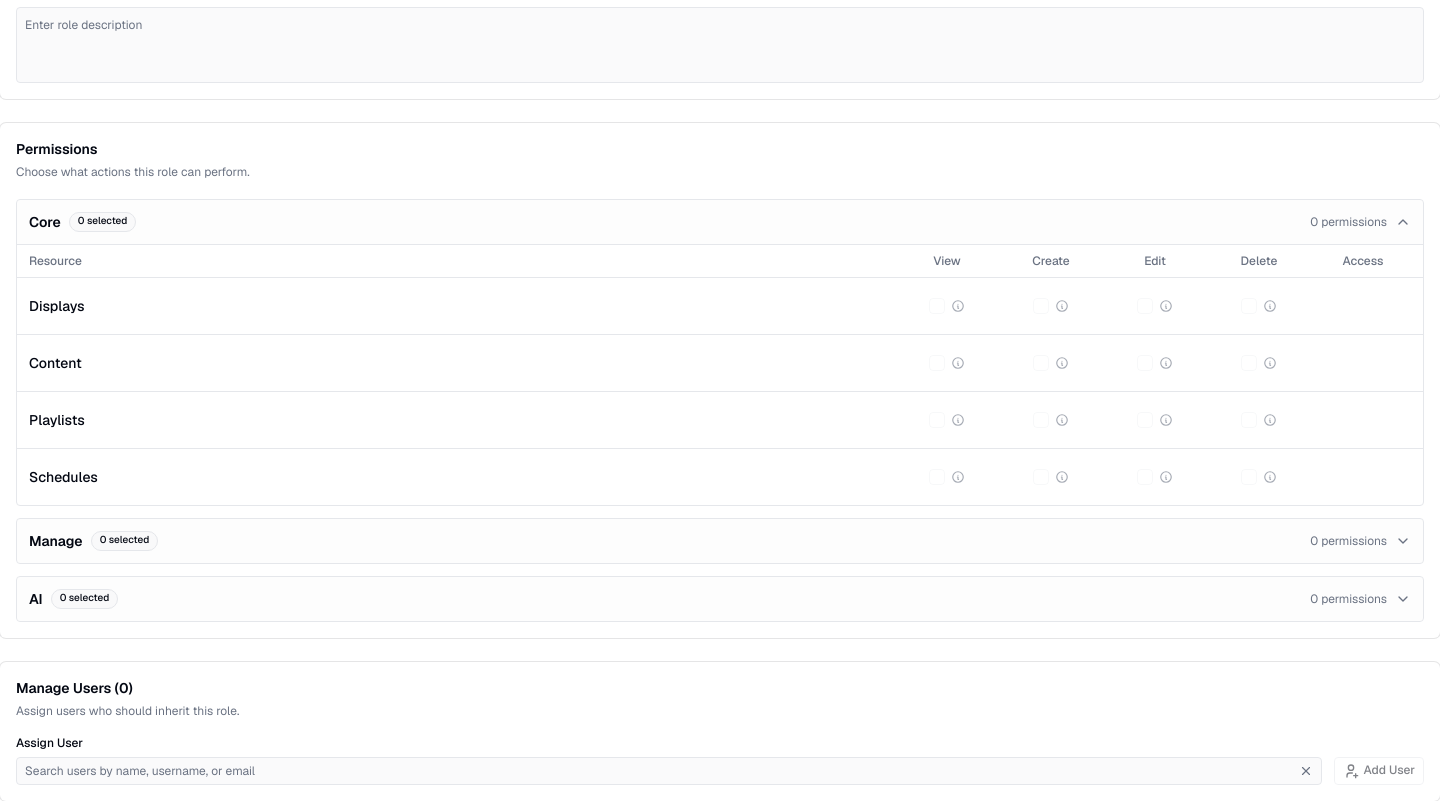
RoleForm › clears the selected user when the assignment combobox is edited after selection
(page scrolled)
Type "bob" into the dropdown labelled "Assign User" at (655, 771), box [17,757,1294,785]
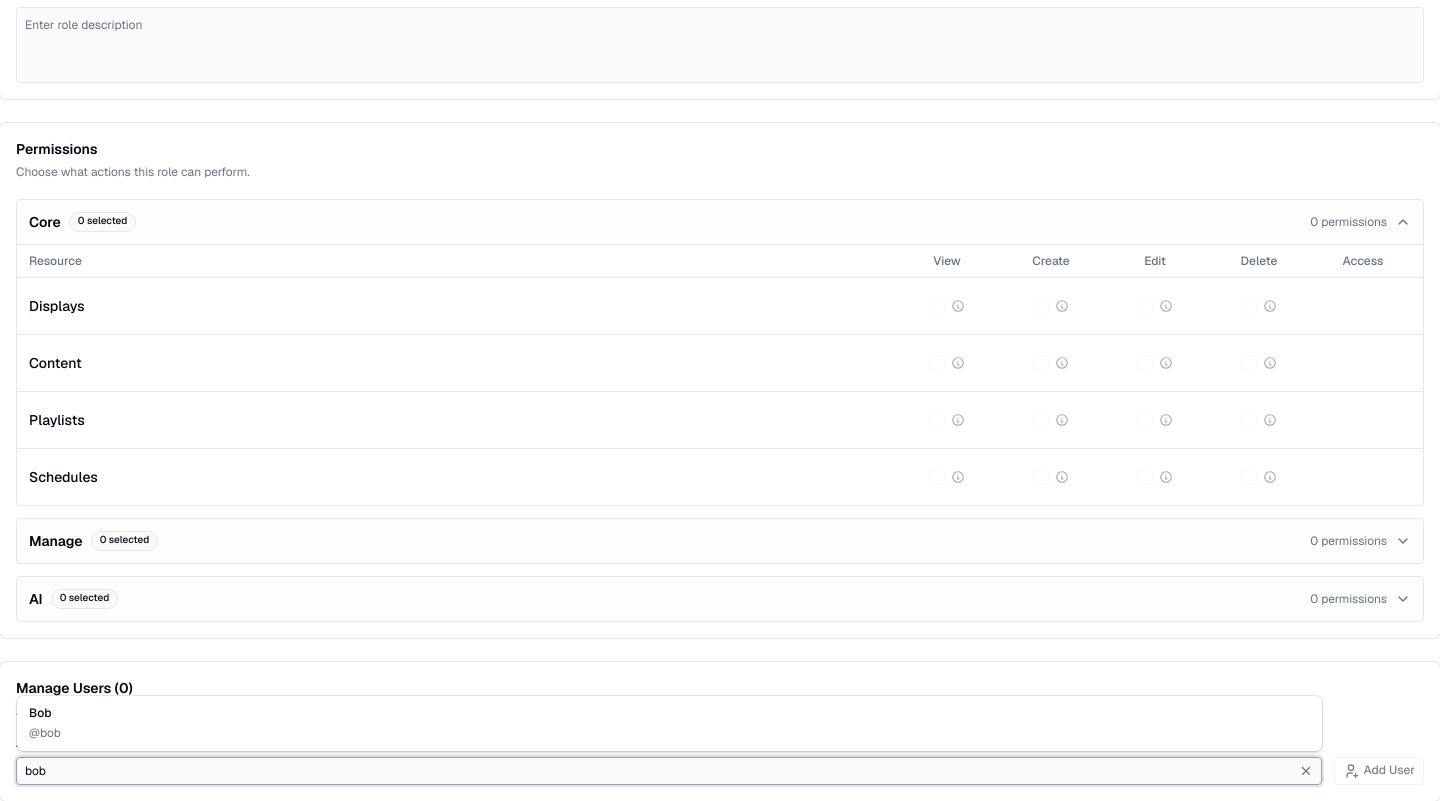
Press the mouse on the option "Bob @bob" at (45, 723), box [29,705,61,740]
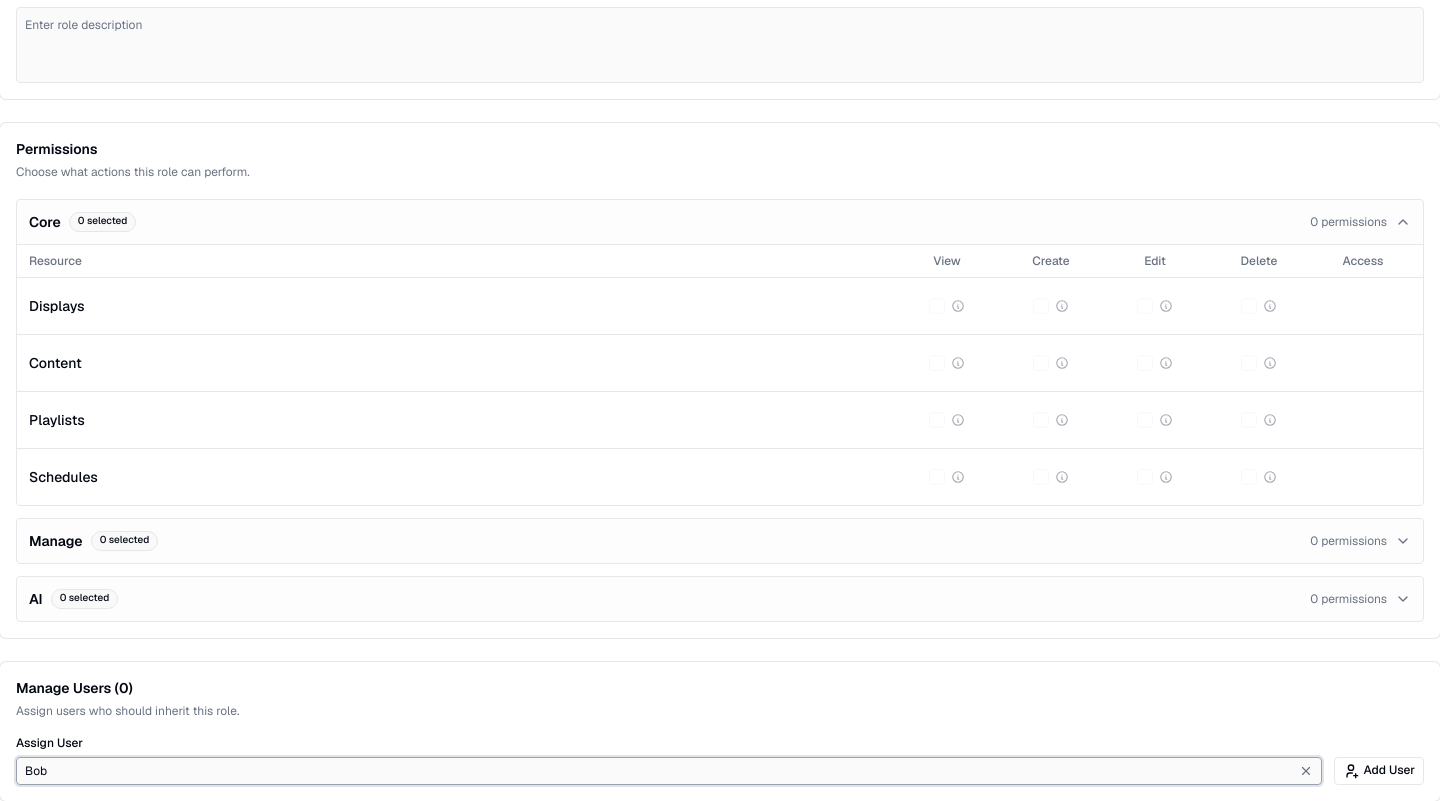
Expected: the button "Add User" is enabled, [1334,757,1424,785]
Clear the dropdown labelled "Assign User" at (655, 771), box [17,757,1294,785]
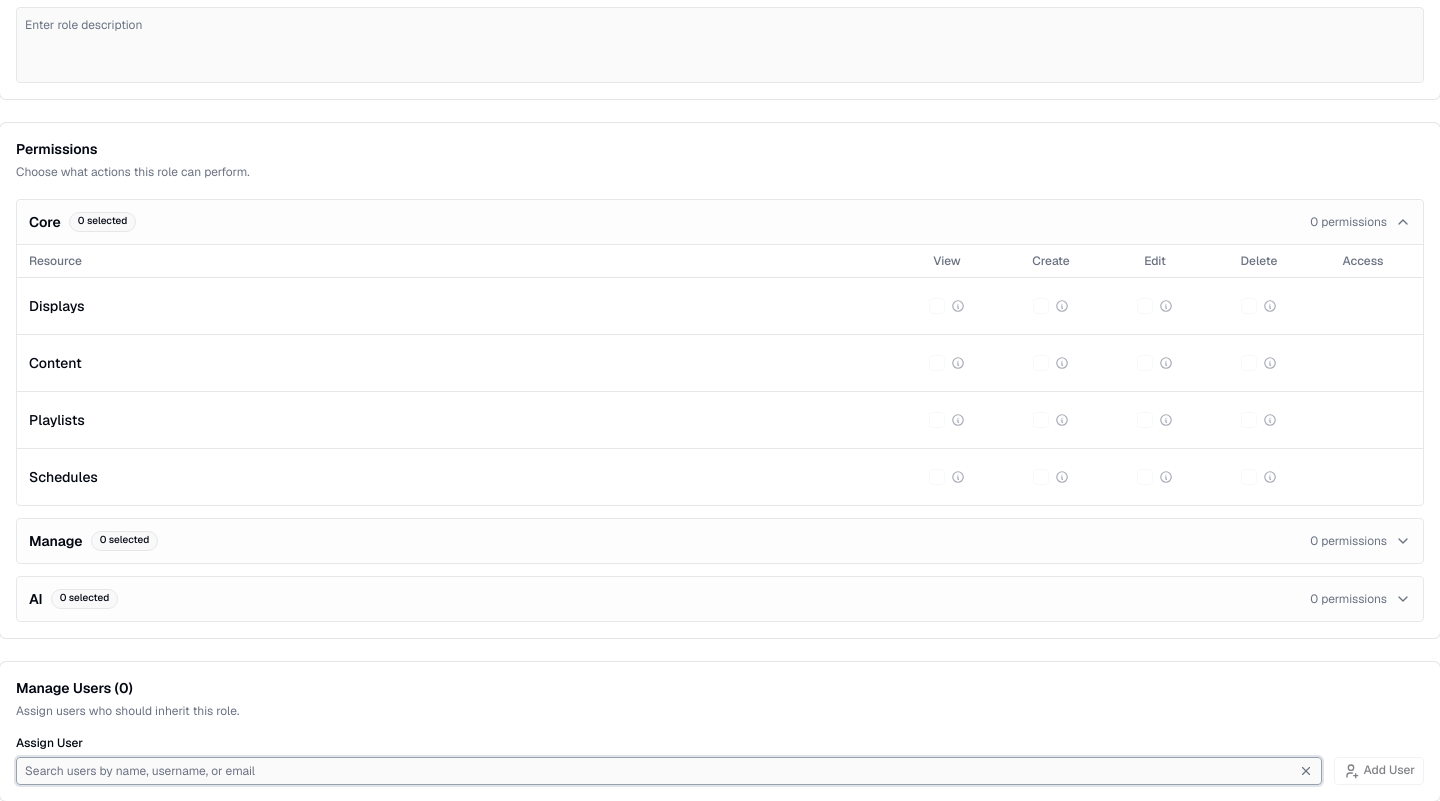
Expected: the button "Add User" is disabled, [1334,757,1424,785]
